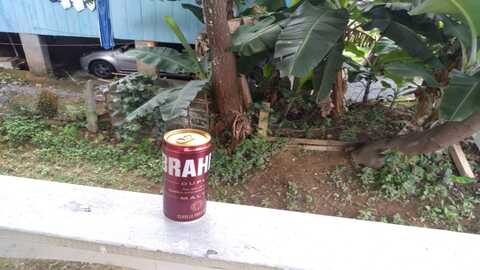duplo_malte: (164, 129, 212, 229)
